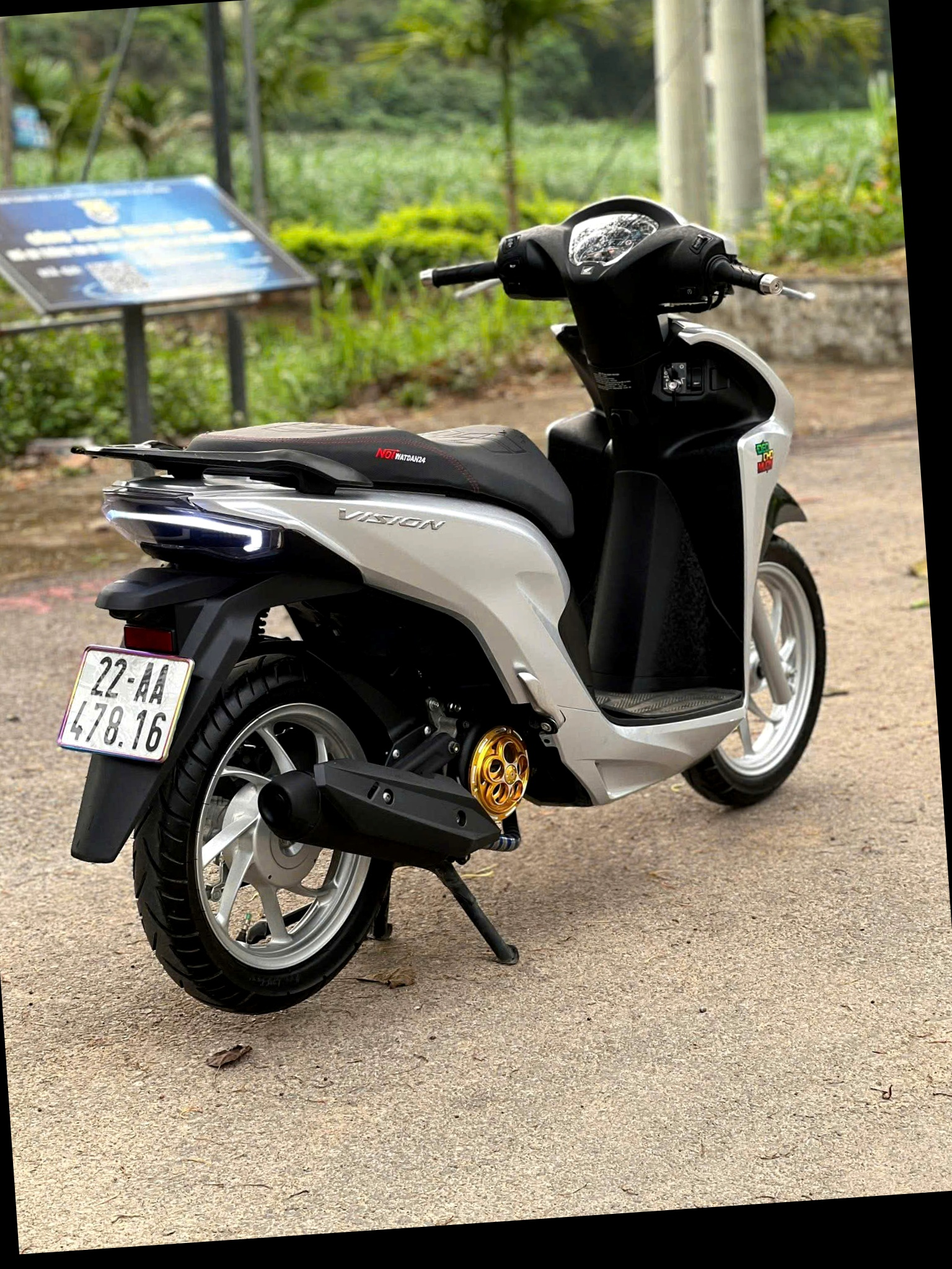Bien-so: (93, 614, 244, 748)
